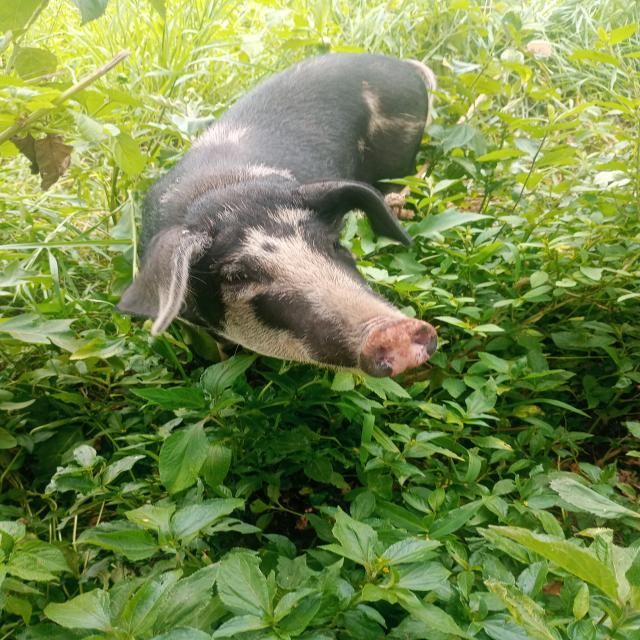pig: (82, 32, 530, 430)
